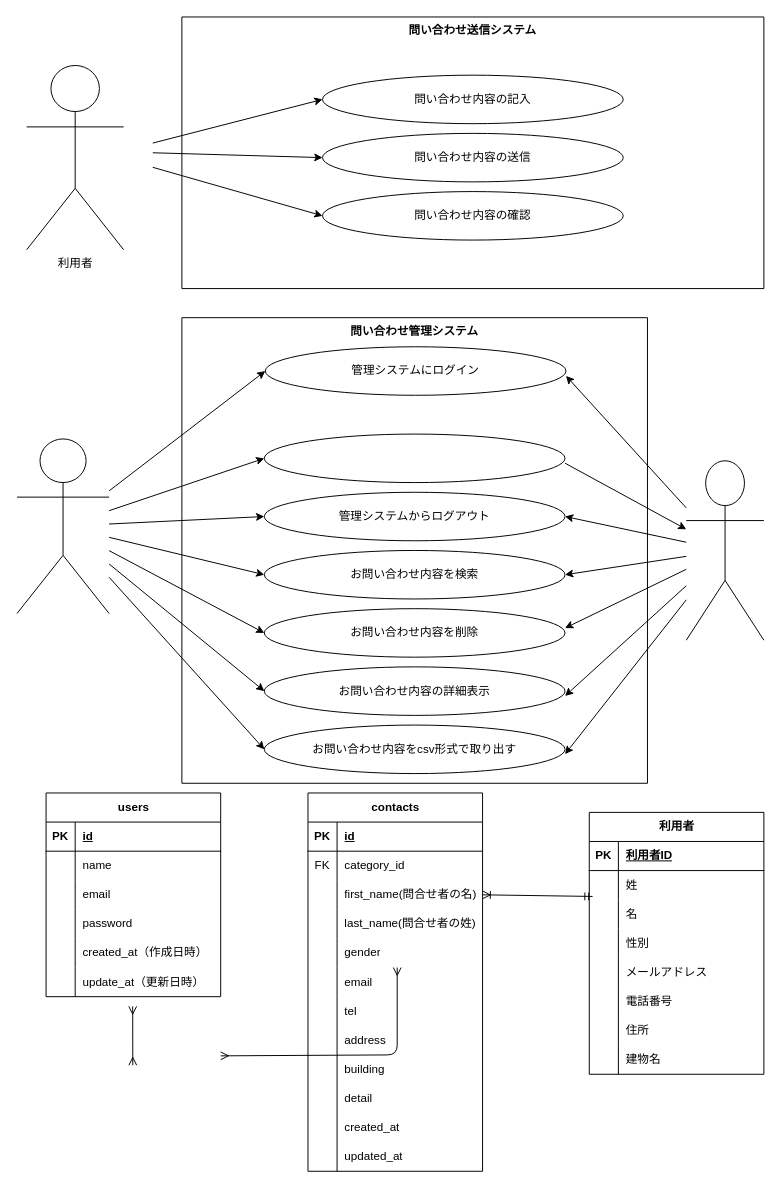
This 781x1188 diagram has some shape labels left out. The shapes that lost their labels are listed below. From the top down, each one's centre as x and y in pixels, then its label:
At point (414, 458): "新規ユーザーの作成・登録".
At point (62, 526): "管理者".
At point (724, 550): "新規管理者".
